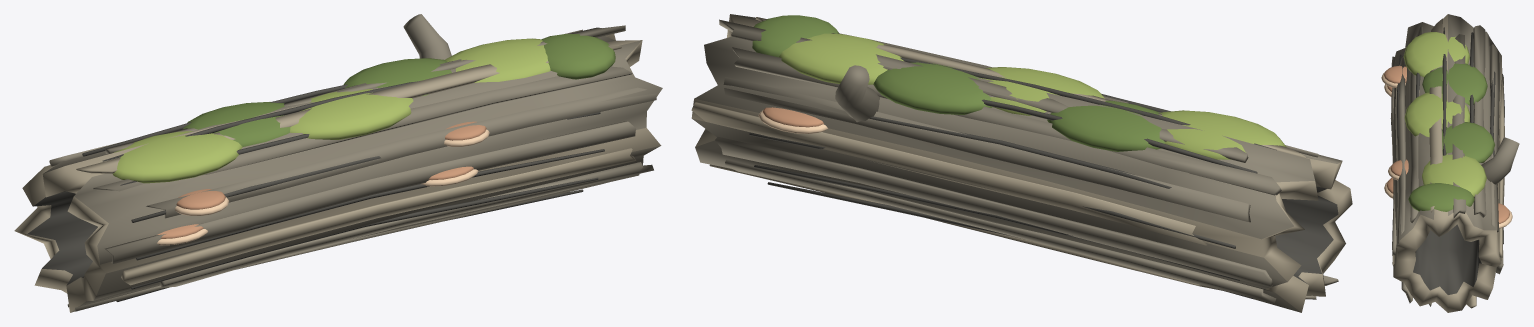
The model's file is SM_SF_OldMossLog.fbx.
The picture shows the model from 3 angles, left to right: view 1: azimuth 30°, elevation 25°; view 2: azimuth 150°, elevation 25°; view 3: azimuth 270°, elevation 25°; orthographic projection. The views are drawn at different scales.
Visible parts, largest first — view 1: SM_SF_OldMossLog; view 2: SM_SF_OldMossLog; view 3: SM_SF_OldMossLog.
Boxes of the visible parts, x1=… form: SM_SF_OldMossLog: x1=14, y1=14, x2=662, y2=312; SM_SF_OldMossLog: x1=691, y1=14, x2=1352, y2=312; SM_SF_OldMossLog: x1=1381, y1=14, x2=1519, y2=312.
Bounding box in the file's own units: 5.3 × 1.49 × 1.45.
